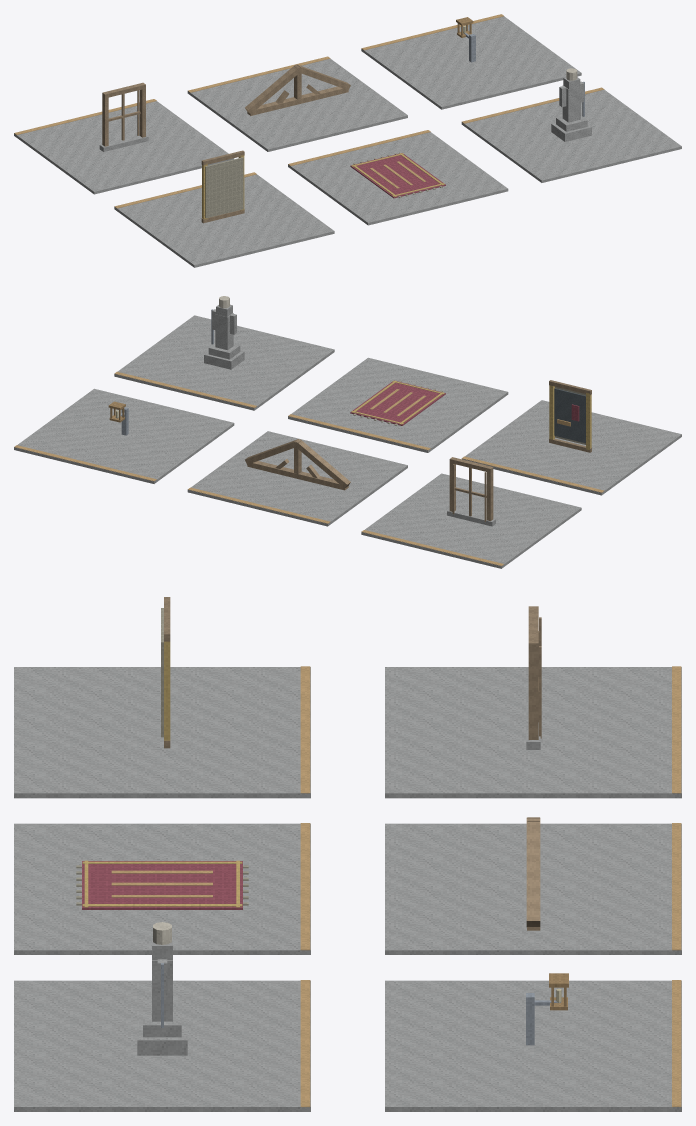
Rendered from level_blockout_kit_mansion_p03.glb.
The picture shows the model from 3 angles, top to bottom: view 1: azimuth 30°, elevation 25°; view 2: azimuth 150°, elevation 25°; view 3: azimuth 270°, elevation 25°; orthographic projection. The views are drawn at different scales.
Parts seen in each view (by area): view 1: level_blockout_kit_mansion_p03; view 2: level_blockout_kit_mansion_p03; view 3: level_blockout_kit_mansion_p03.
Boxes of the visible parts, <box> form: level_blockout_kit_mansion_p03: <box>14,14,681,267</box>; level_blockout_kit_mansion_p03: <box>14,296,681,568</box>; level_blockout_kit_mansion_p03: <box>14,597,681,1111</box>.
Size of the model in its own units: 19.65 by 2.54 by 12.6.
Materials: 11 (11 with a texture image).
